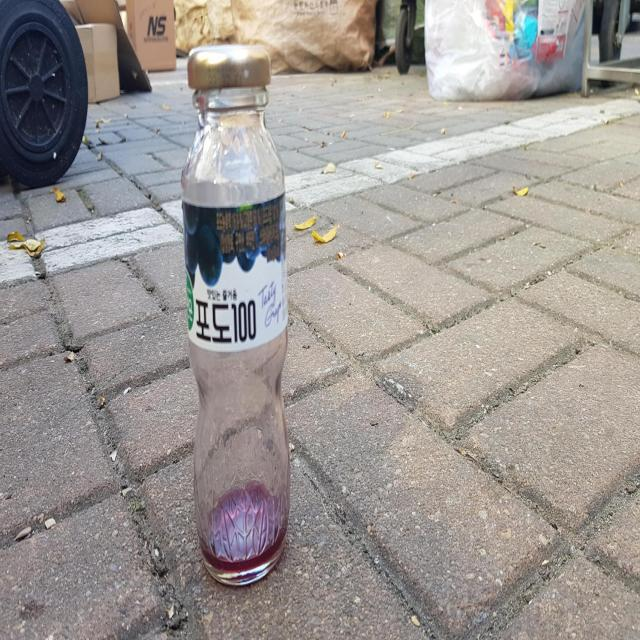glass: (181, 44, 290, 585)
